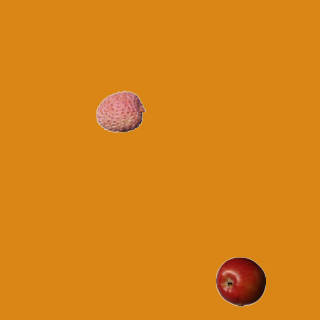Apple Braeburn: (215, 256, 265, 306)
Lychee: (95, 86, 145, 136)
